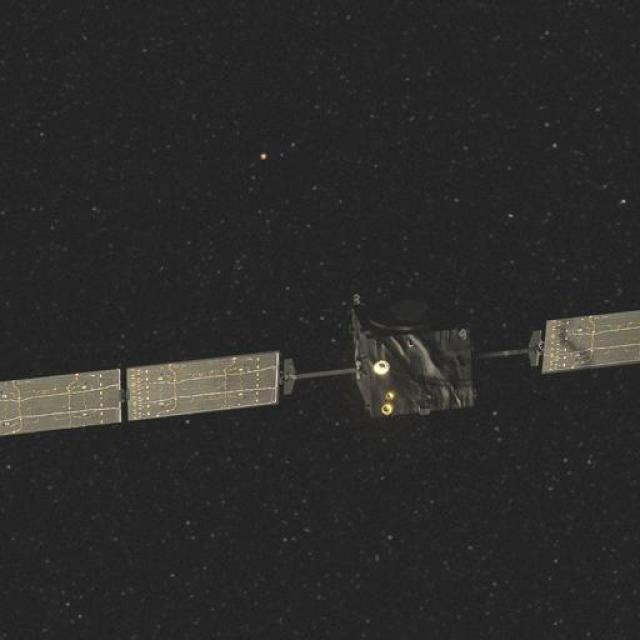smart_1: (242, 265, 554, 441)
